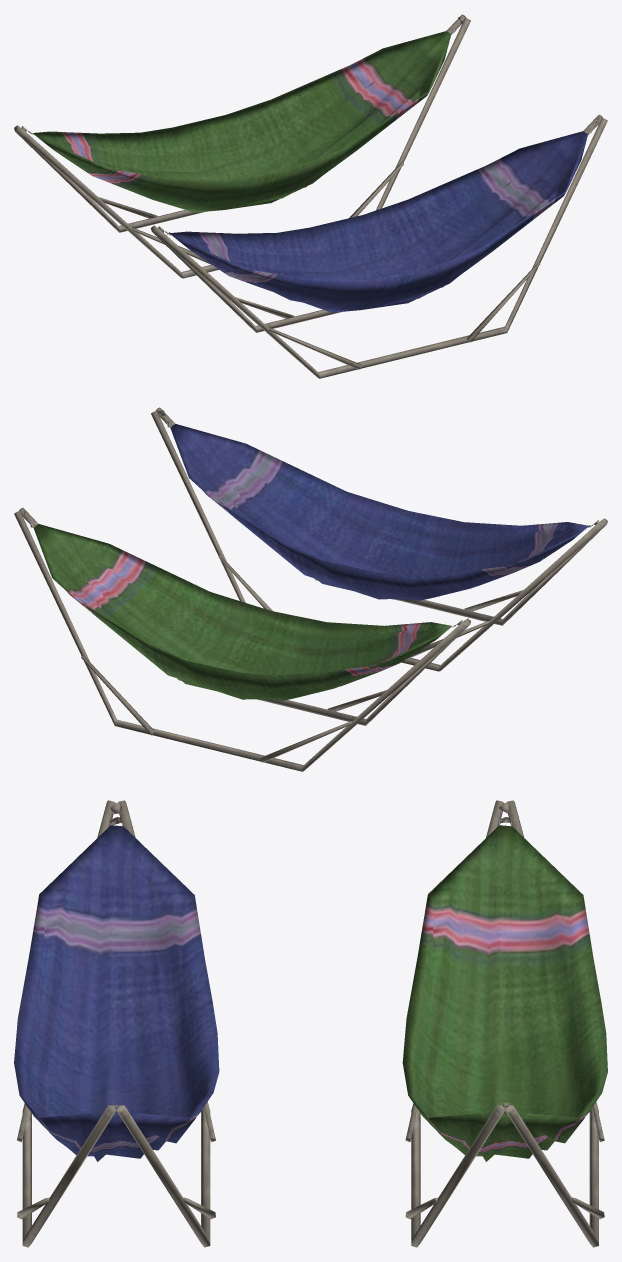
The model's file is vong.glb.
3 views of the same model, one above another, from view 1: azimuth 30°, elevation 25°; view 2: azimuth 150°, elevation 25°; view 3: azimuth 270°, elevation 25° (orthographic). The views are drawn at different scales.
Visible parts, largest first — view 1: hammock blue, hamoock green; view 2: hamoock green, hammock blue; view 3: hammock blue, hamoock green.
Boxes of the visible parts, x1,y1,x2,y2 form: hammock blue: (151,114,607,378); hamoock green: (14,14,470,278); hamoock green: (14,507,470,771); hammock blue: (151,407,607,671); hammock blue: (14,800,219,1247); hamoock green: (402,800,607,1247).
Size of the model in its own units: 1 by 0.3451 by 0.8005.
1 material, 1 textured.
